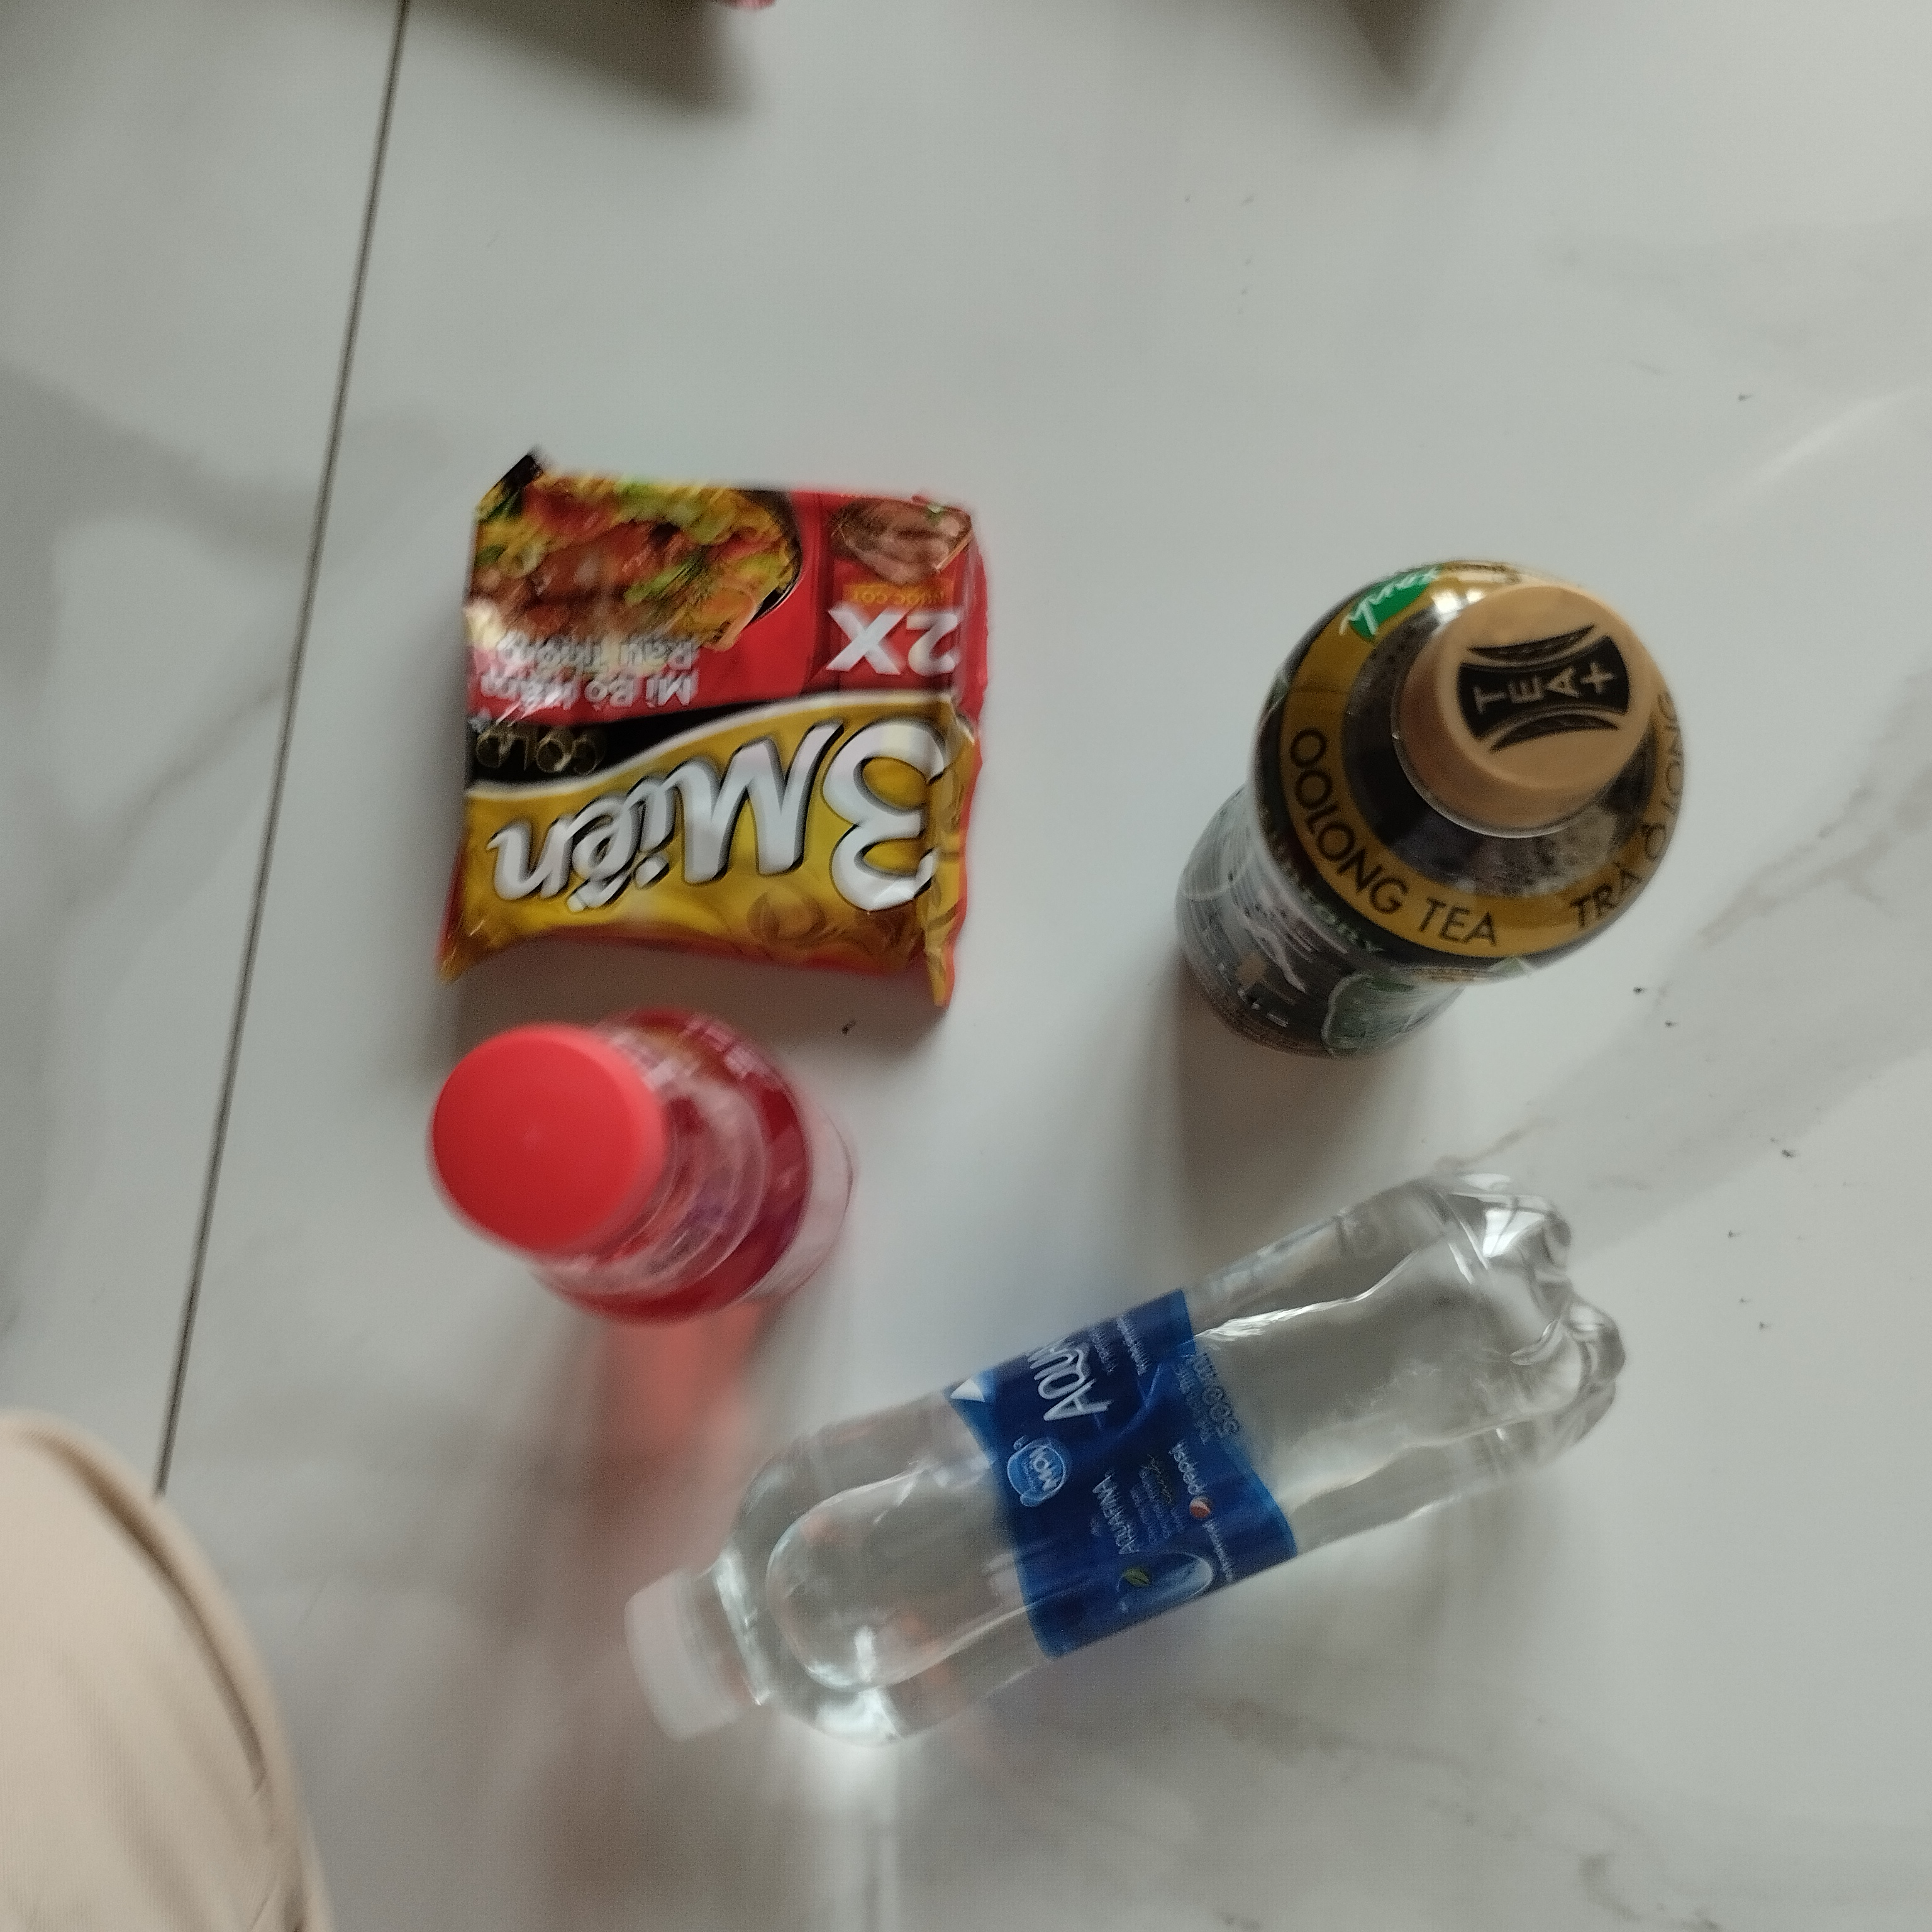3mien: (444, 444, 978, 1007)
Ajinomoto: (625, 1161, 1631, 1766)
Olong: (1169, 564, 1702, 1070)
Sting: (425, 1005, 881, 1343)
